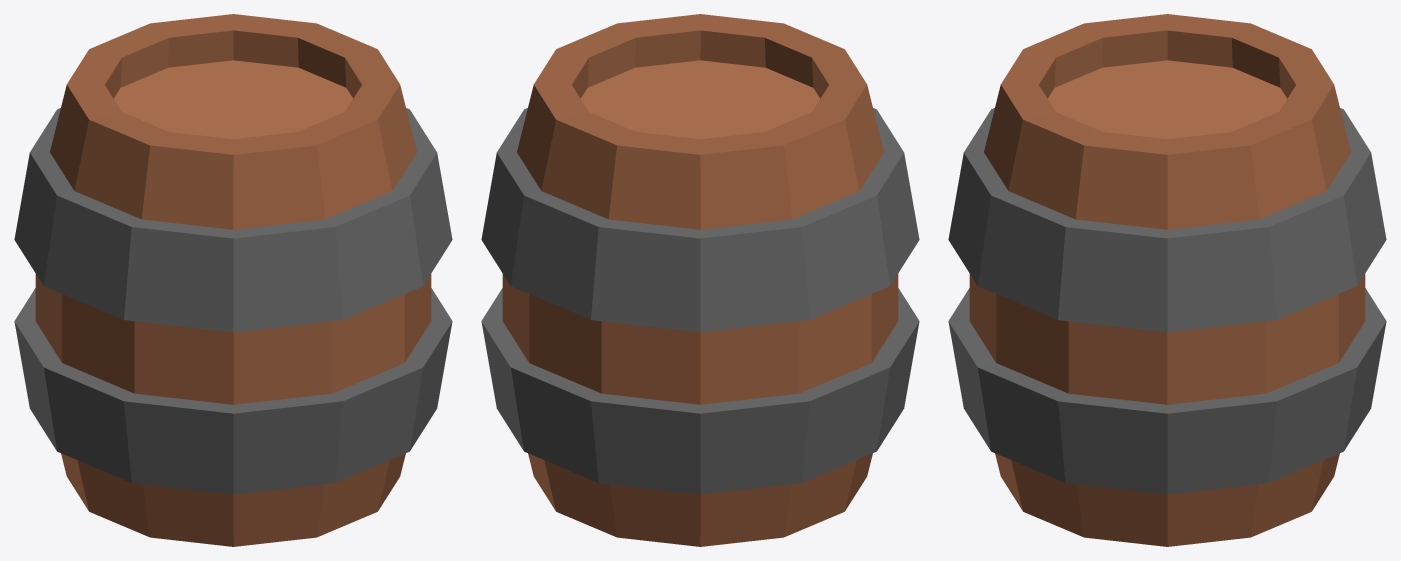
The model's file is barrel_3.obj.
The picture shows the model from 3 angles, left to right: view 1: azimuth 30°, elevation 25°; view 2: azimuth 150°, elevation 25°; view 3: azimuth 270°, elevation 25°; orthographic projection.
Visible parts, largest first — view 1: barrel_3; view 2: barrel_3; view 3: barrel_3.
Boxes of the visible parts, box(x1,y1,x2,y2) form: barrel_3: box(14, 14, 452, 546); barrel_3: box(481, 14, 919, 546); barrel_3: box(948, 14, 1386, 546).
Size of the model in its own units: 0.4317 by 0.4262 by 0.4317.
